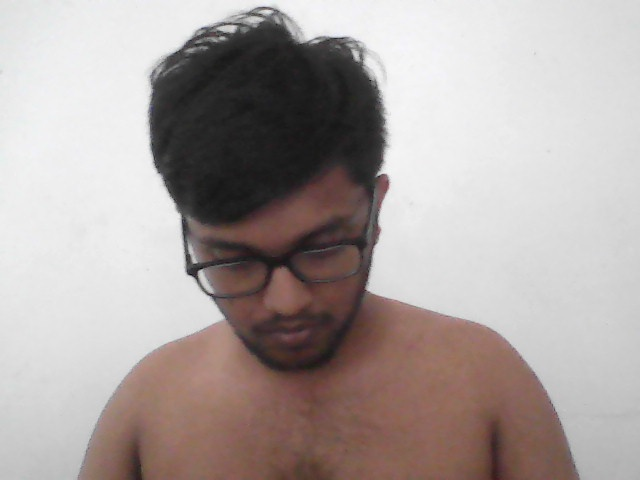lower level: (150, 7, 390, 374)
